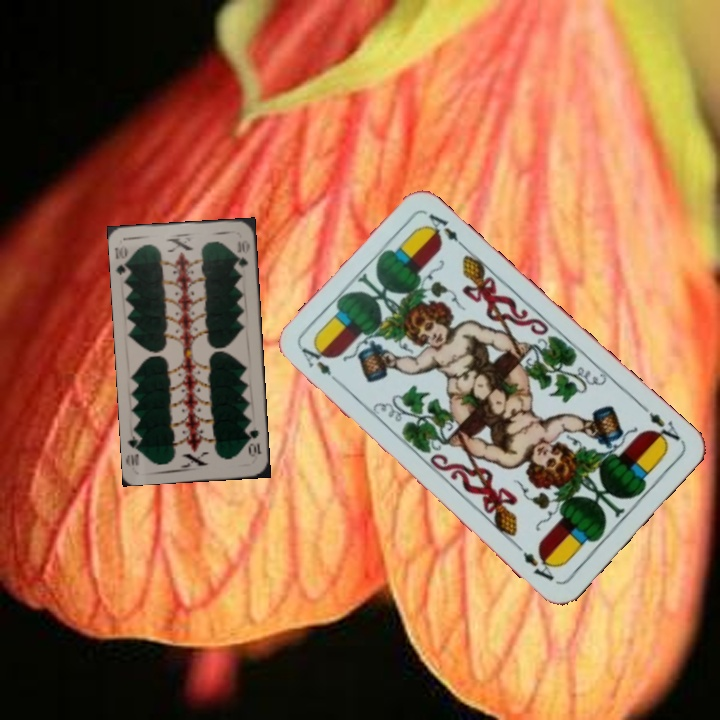EA: (636, 401, 683, 450), (297, 343, 345, 388)
G10: (111, 241, 133, 281), (244, 426, 265, 459)
